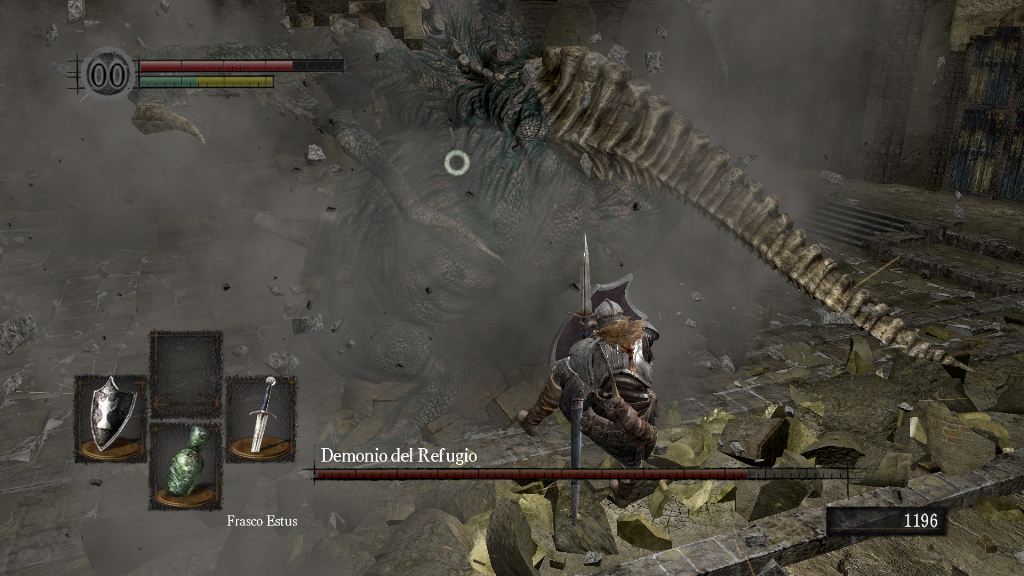asylumDemon: (131, 3, 976, 436)
bossHP: (314, 469, 847, 479)
health: (138, 58, 343, 71)
humanity: (80, 45, 136, 102)
player: (517, 231, 661, 510)
souls: (825, 506, 945, 536)
stamina: (138, 74, 274, 88)
